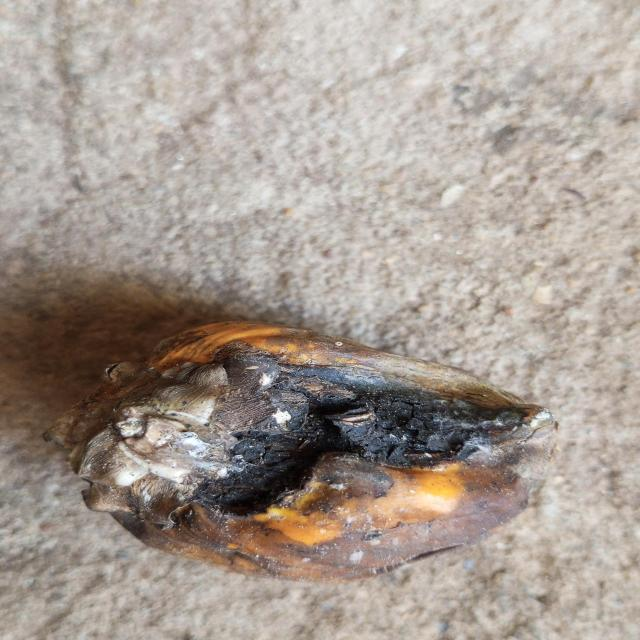damaged: (55, 320, 550, 585)
